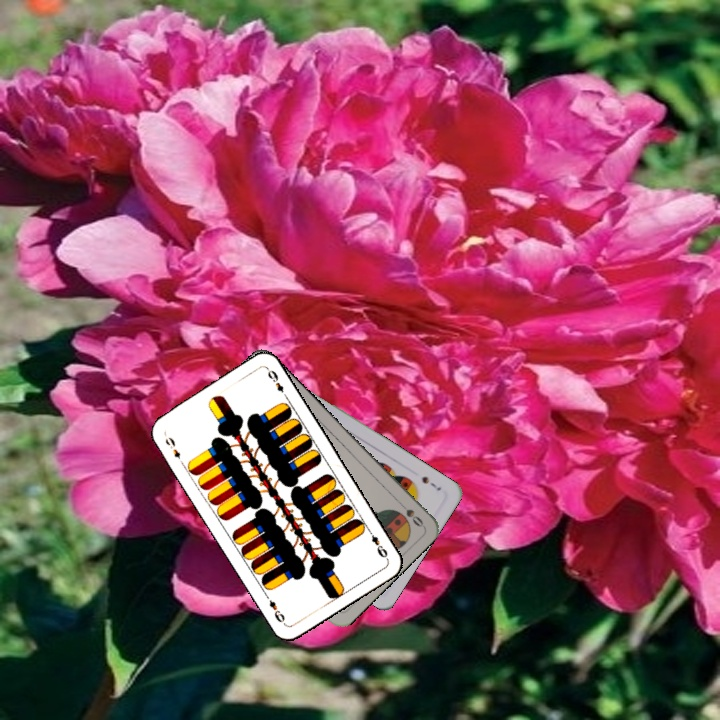E9: (364, 525, 390, 560), (161, 433, 183, 462)
S7: (418, 472, 444, 493)
SO: (393, 497, 426, 530)
